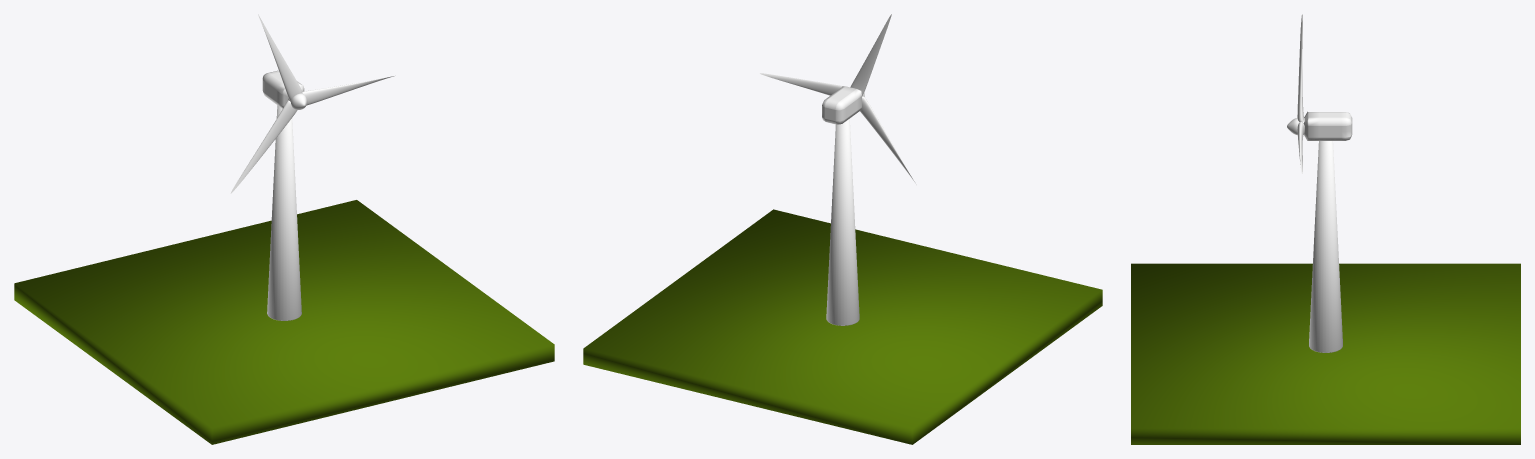
The model's file is turbine.glb.
3 views of the same model, side by side, from view 1: azimuth 30°, elevation 25°; view 2: azimuth 150°, elevation 25°; view 3: azimuth 270°, elevation 25° (orthographic). The views are drawn at different scales.
Parts seen in each view (by area): view 1: Ground, Pole, blade2, blade1, Engine, blade3; view 2: Ground, Pole, Engine, blade1, blade2, blade3; view 3: Ground, Pole, Engine, blade1.
Part boxes in pixels (x1,y1,x2,y2): Ground: [14, 200, 554, 444]; Pole: [267, 105, 301, 320]; blade2: [230, 100, 297, 193]; blade1: [258, 14, 302, 100]; Engine: [262, 70, 304, 108]; blade3: [302, 76, 394, 105]; Ground: [583, 209, 1102, 444]; Pole: [826, 118, 859, 325]; Engine: [822, 86, 861, 124]; blade1: [850, 14, 891, 95]; blade2: [860, 96, 916, 184]; blade3: [760, 73, 842, 95]; Ground: [1131, 263, 1520, 444]; Pole: [1309, 141, 1342, 352]; Engine: [1303, 111, 1352, 140]; blade1: [1297, 14, 1303, 122].
Size of the model in its own units: 13.25 by 12.38 by 13.25.
